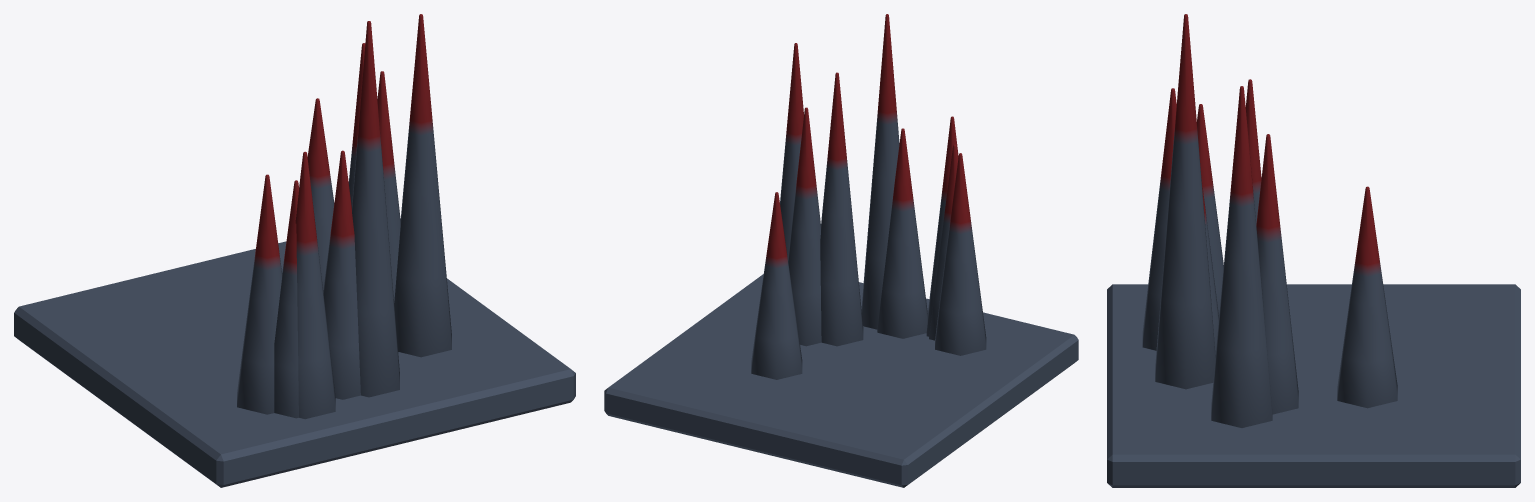
Rendered from prop_spikes0_7306.glb.
3 renders of one model, left to right at view 1: azimuth 30°, elevation 25°; view 2: azimuth 150°, elevation 25°; view 3: azimuth 270°, elevation 25°, orthographic. The views are drawn at different scales.
Visible parts, largest first — view 1: prop_spikes0_7306; view 2: prop_spikes0_7306; view 3: prop_spikes0_7306.
Boxes of the visible parts, x1=… form: prop_spikes0_7306: x1=14, y1=14, x2=575, y2=487; prop_spikes0_7306: x1=604, y1=14, x2=1078, y2=487; prop_spikes0_7306: x1=1107, y1=14, x2=1520, y2=487.
Bounding box in the file's own units: 0.7954 × 0.8613 × 0.7954.
Materials: 1 (1 with a texture image).
